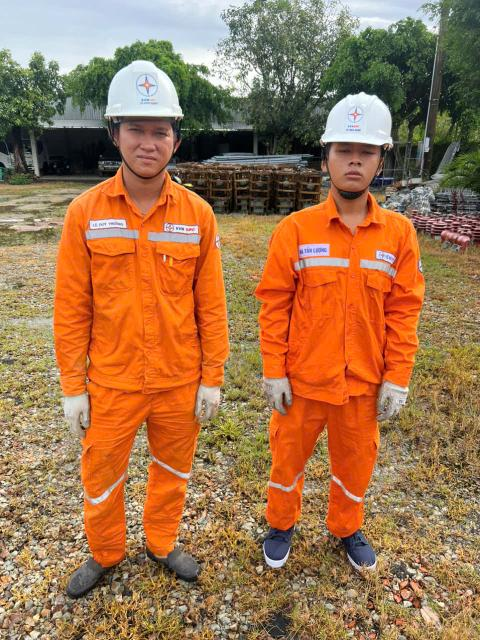gloves: (366, 371, 417, 423), (258, 368, 298, 417), (189, 376, 225, 426), (60, 392, 98, 435)
helmet: (87, 57, 206, 129), (303, 89, 408, 154)
shoes: (324, 521, 386, 575), (242, 517, 301, 573), (59, 543, 120, 597), (139, 538, 202, 577)
